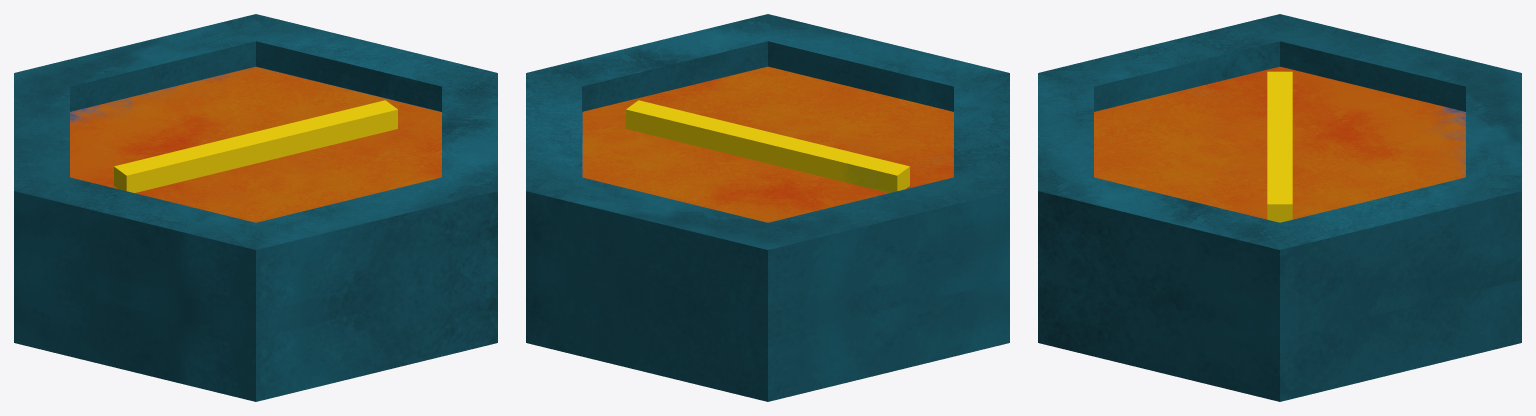
Rendered from Long.FBX.
3 views of the same model, side by side, from view 1: azimuth 30°, elevation 25°; view 2: azimuth 150°, elevation 25°; view 3: azimuth 270°, elevation 25° (orthographic).
Visible parts, largest first — view 1: Cylinder022; view 2: Cylinder022; view 3: Cylinder022.
Part boxes in pixels (bbox=[...]): Cylinder022: bbox=[14, 14, 497, 401]; Cylinder022: bbox=[526, 14, 1009, 401]; Cylinder022: bbox=[1038, 14, 1521, 401].
Size of the model in its own units: 20 by 17.32 by 6.
